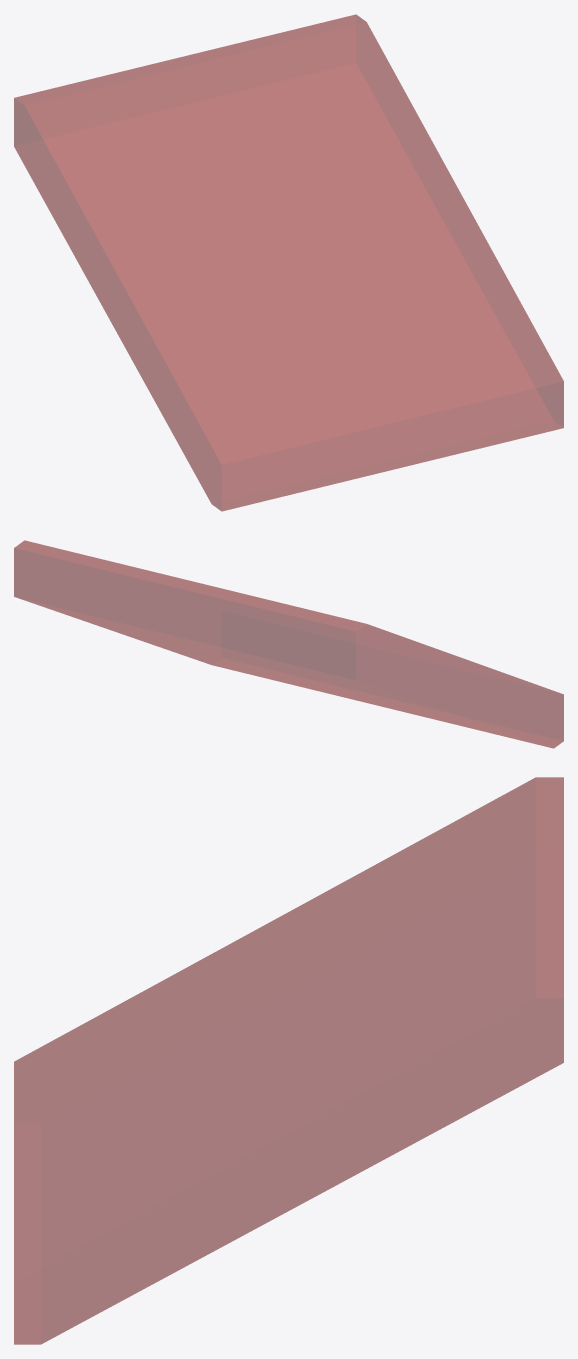
Rendered from SM_Bld_Base_Stairs_01_Collision.fbx.
The picture shows the model from 3 angles, top to bottom: view 1: azimuth 30°, elevation 25°; view 2: azimuth 150°, elevation 25°; view 3: azimuth 270°, elevation 25°; orthographic projection. The views are drawn at different scales.
Parts seen in each view (by area): view 1: SM_Bld_Base_Stairs_01_Collision; view 2: SM_Bld_Base_Stairs_01_Collision; view 3: SM_Bld_Base_Stairs_01_Collision.
Boxes of the visible parts, left/top/right/bottom form: SM_Bld_Base_Stairs_01_Collision: left=14, top=14, right=563, bottom=511; SM_Bld_Base_Stairs_01_Collision: left=14, top=540, right=563, bottom=748; SM_Bld_Base_Stairs_01_Collision: left=14, top=777, right=563, bottom=1344.
Size of the model in its own units: 250 by 183 by 263.
